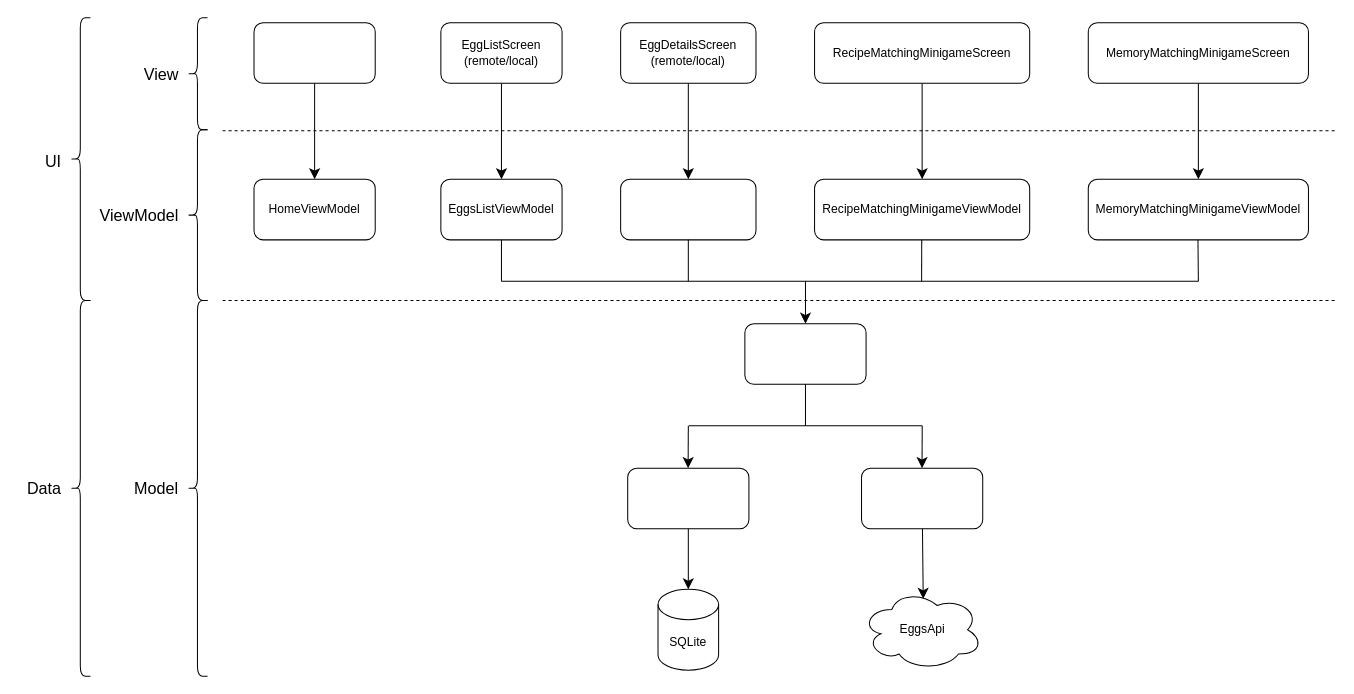
Some shapes in this 1354 by 694 pixel diagram are drawn without their labels. The box of each missing label's shape, as (x1, y1, x2, y2) in pixels:
EggDetailsViewModel: (620, 178, 756, 240)
EggsRepository: (744, 323, 866, 384)
HomeScreen: (253, 22, 375, 83)
LocalDatabase: (627, 467, 749, 529)
RemoteEggsApi: (861, 467, 983, 529)
